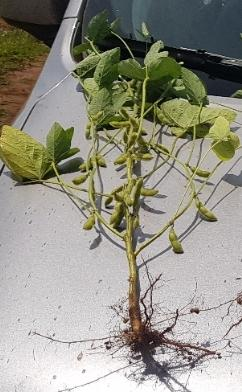soja: (192, 194, 217, 220), (106, 183, 126, 206), (133, 176, 146, 210), (120, 107, 139, 128), (170, 229, 185, 255), (155, 107, 172, 128), (185, 164, 210, 178), (110, 204, 123, 226), (139, 149, 158, 163), (95, 153, 111, 169), (138, 127, 155, 142), (139, 186, 160, 197), (79, 159, 94, 174), (122, 134, 139, 147), (74, 174, 91, 186), (116, 216, 127, 233), (84, 123, 95, 140), (108, 121, 131, 129), (114, 156, 128, 168), (82, 217, 95, 229), (122, 130, 129, 144)
